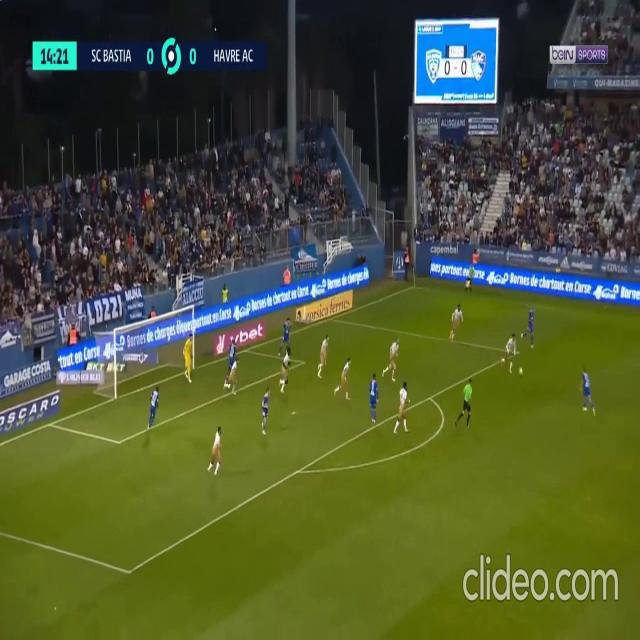ball: (345, 388, 349, 401), (519, 366, 523, 374)
goalkeeper: (183, 336, 193, 384)
player: (335, 357, 353, 399), (208, 426, 223, 476), (581, 366, 596, 416), (383, 339, 399, 383), (225, 346, 239, 394), (396, 380, 409, 430), (502, 331, 518, 369), (148, 385, 160, 431), (279, 317, 292, 359), (449, 304, 464, 340), (317, 334, 329, 376), (523, 305, 535, 347), (369, 372, 379, 421), (280, 351, 290, 396), (261, 386, 270, 434)
referee: (457, 380, 473, 426), (465, 258, 473, 291)
